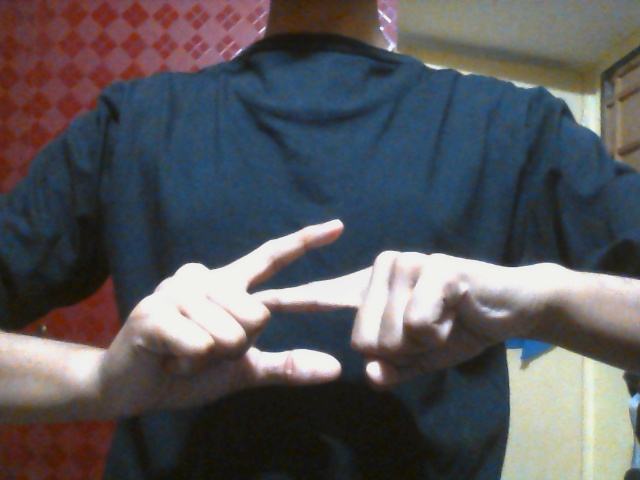E: (128, 218, 496, 419)
